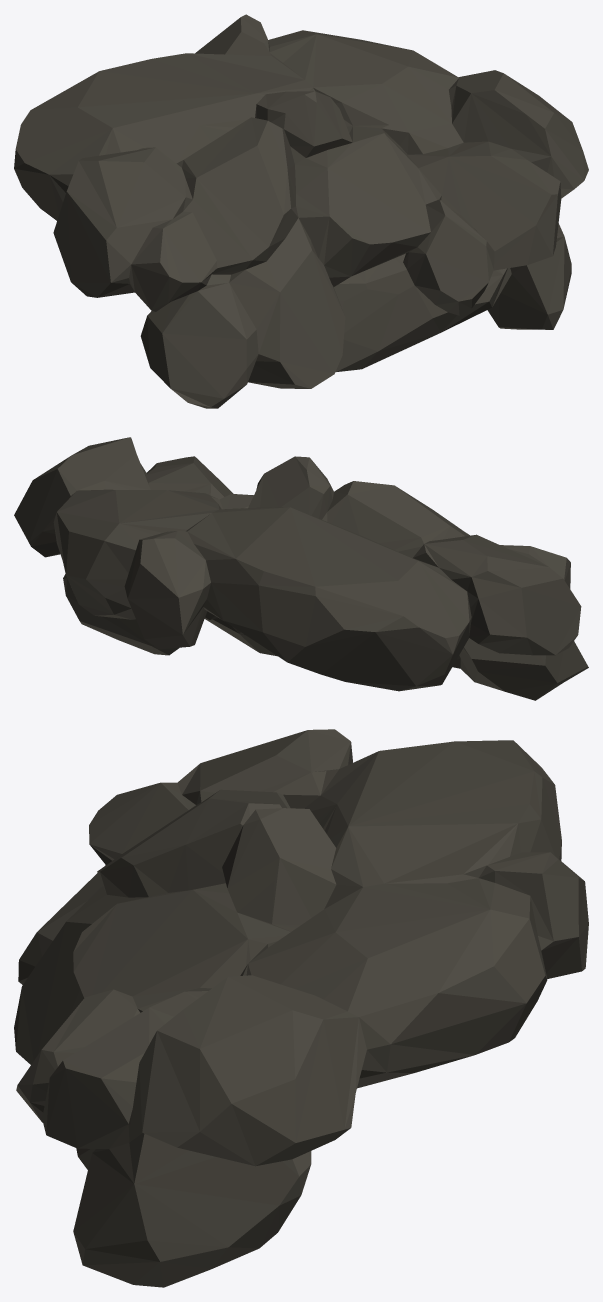
The model's file is synty-rock-pile-curved-01.gltf.
3 views of the same model, one above another, from view 1: azimuth 30°, elevation 25°; view 2: azimuth 150°, elevation 25°; view 3: azimuth 270°, elevation 25° (orthographic). The views are drawn at different scales.
Parts seen in each view (by area): view 1: SM_Rock_Pile_Curved_01; view 2: SM_Rock_Pile_Curved_01; view 3: SM_Rock_Pile_Curved_01.
Boxes of the visible parts, x1,y1,x2,y2 form: SM_Rock_Pile_Curved_01: (14,14,588,408); SM_Rock_Pile_Curved_01: (14,437,588,700); SM_Rock_Pile_Curved_01: (14,729,588,1287).
Size of the model in its own units: 5.34 by 2.6 by 3.82.
Materials: 1 (1 with a texture image).
